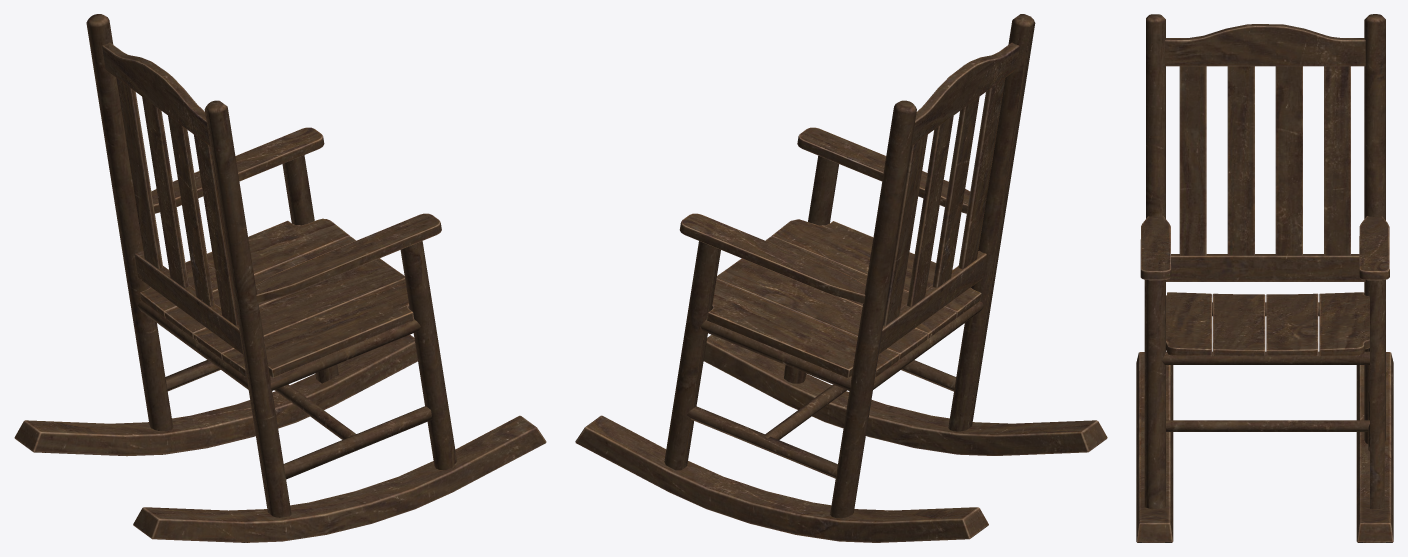
File: chair_ani.fbx
3 views of the same model, side by side, from view 1: azimuth 30°, elevation 25°; view 2: azimuth 150°, elevation 25°; view 3: azimuth 270°, elevation 25° (orthographic). The views are drawn at different scales.
Parts seen in each view (by area): view 1: Chair; view 2: Chair; view 3: Chair.
Part boxes in pixels (x1=…): Chair: x1=14, y1=14, x2=546, y2=542; Chair: x1=575, y1=14, x2=1107, y2=542; Chair: x1=1136, y1=14, x2=1393, y2=542.
Bounding box in the file's own units: 78.57 × 85.39 × 47.7.
1 material, 1 textured.
